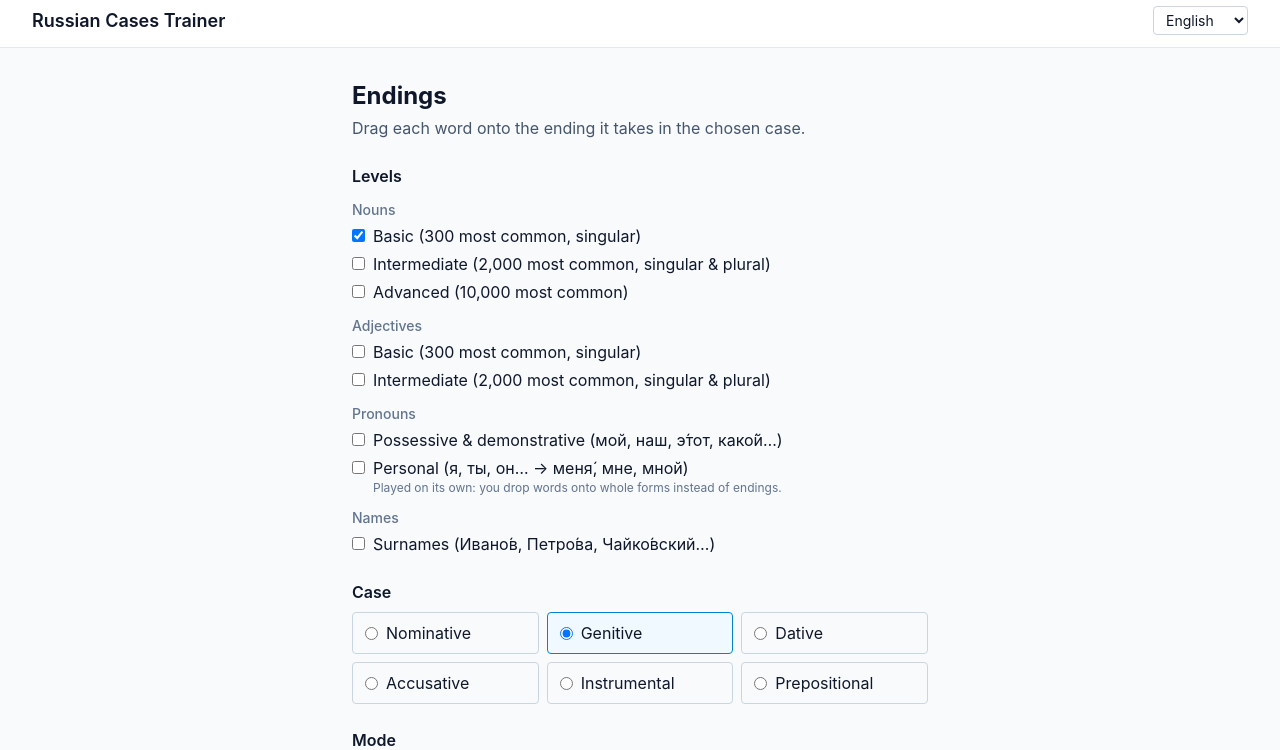
explains when no words match
The width and height of the screenshot is (1280, 750).
Click the radio button labelled "Nominative": (372,633) [365, 626, 378, 640]
(page scrolled)
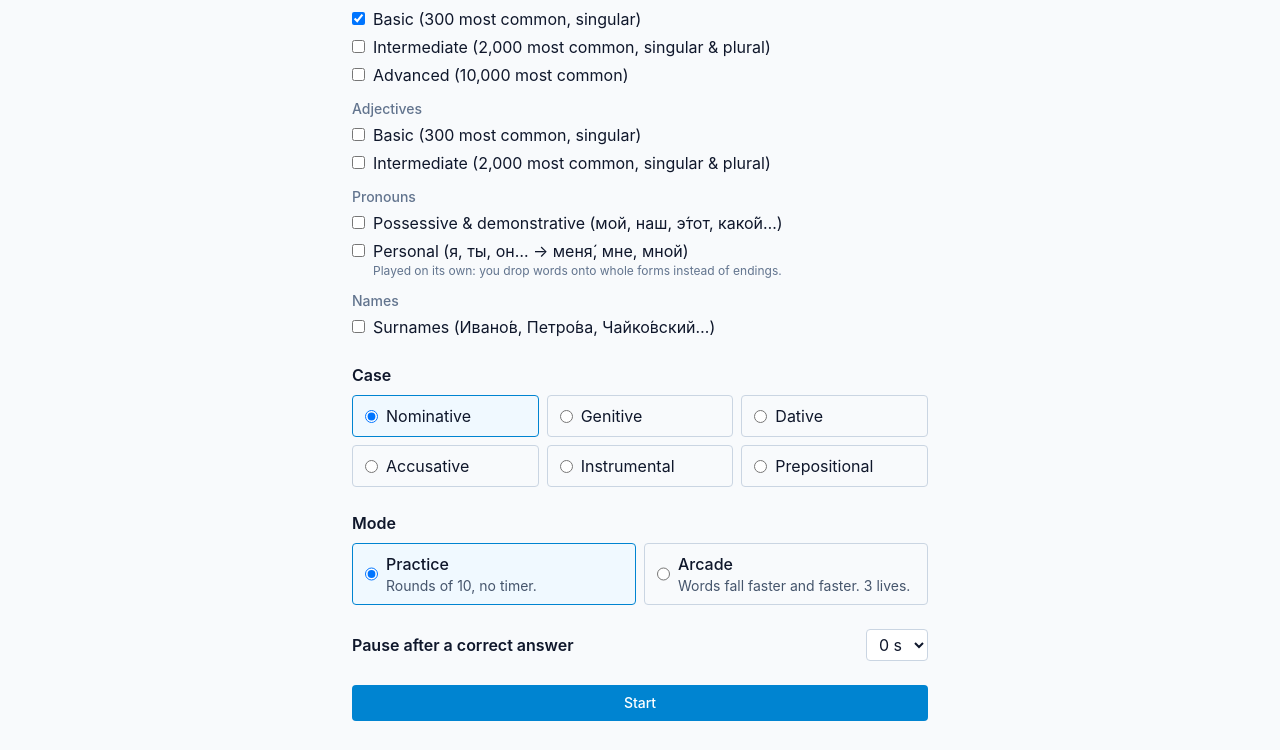
Click the button "Start": (640,703) [352, 685, 928, 721]
(page scrolled)
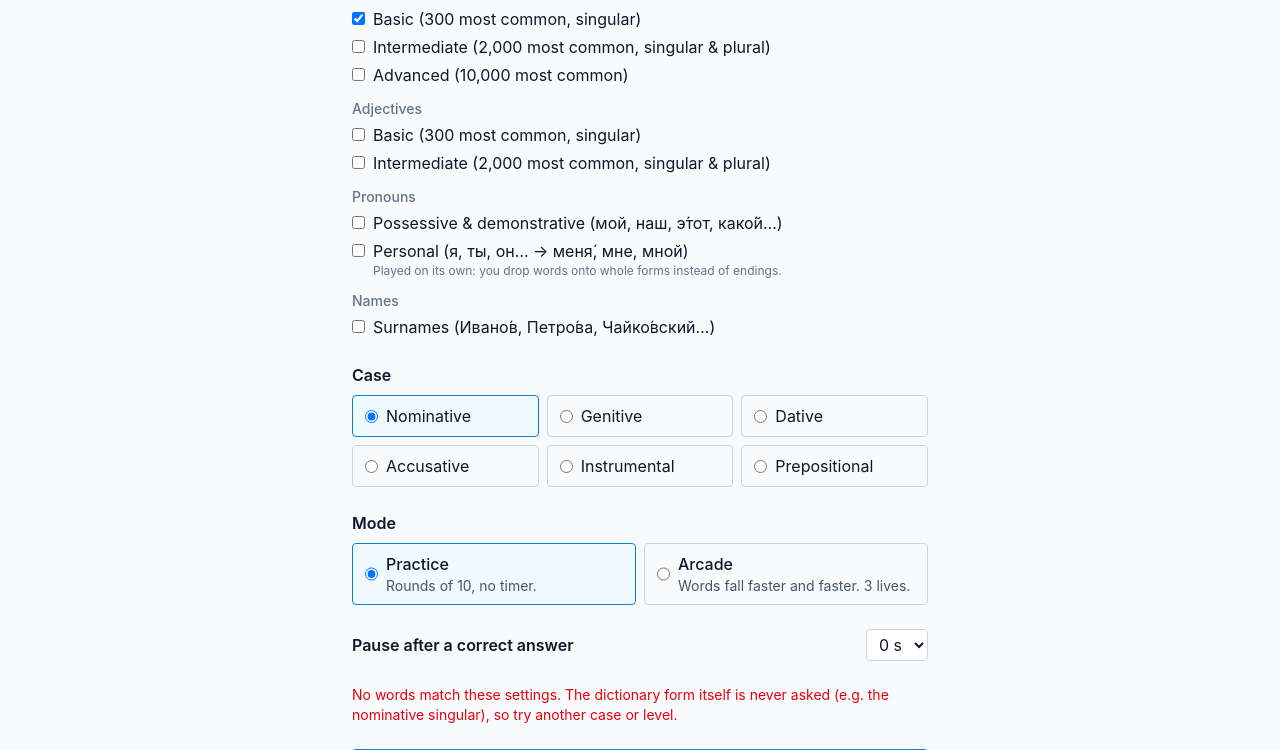
Expected: the message shows "never asked", [352, 686, 889, 723]
